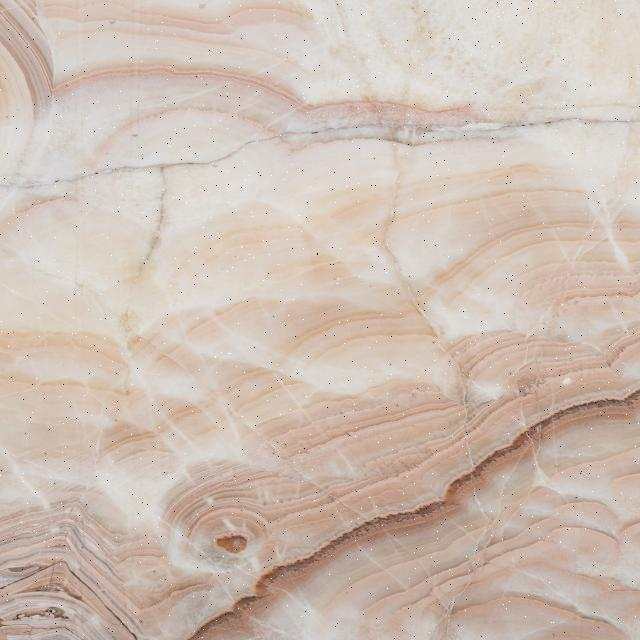Sedimentary: (1, 3, 639, 640)
